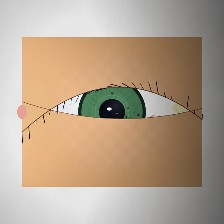pinguecula_lesion: (164, 94, 199, 122)
